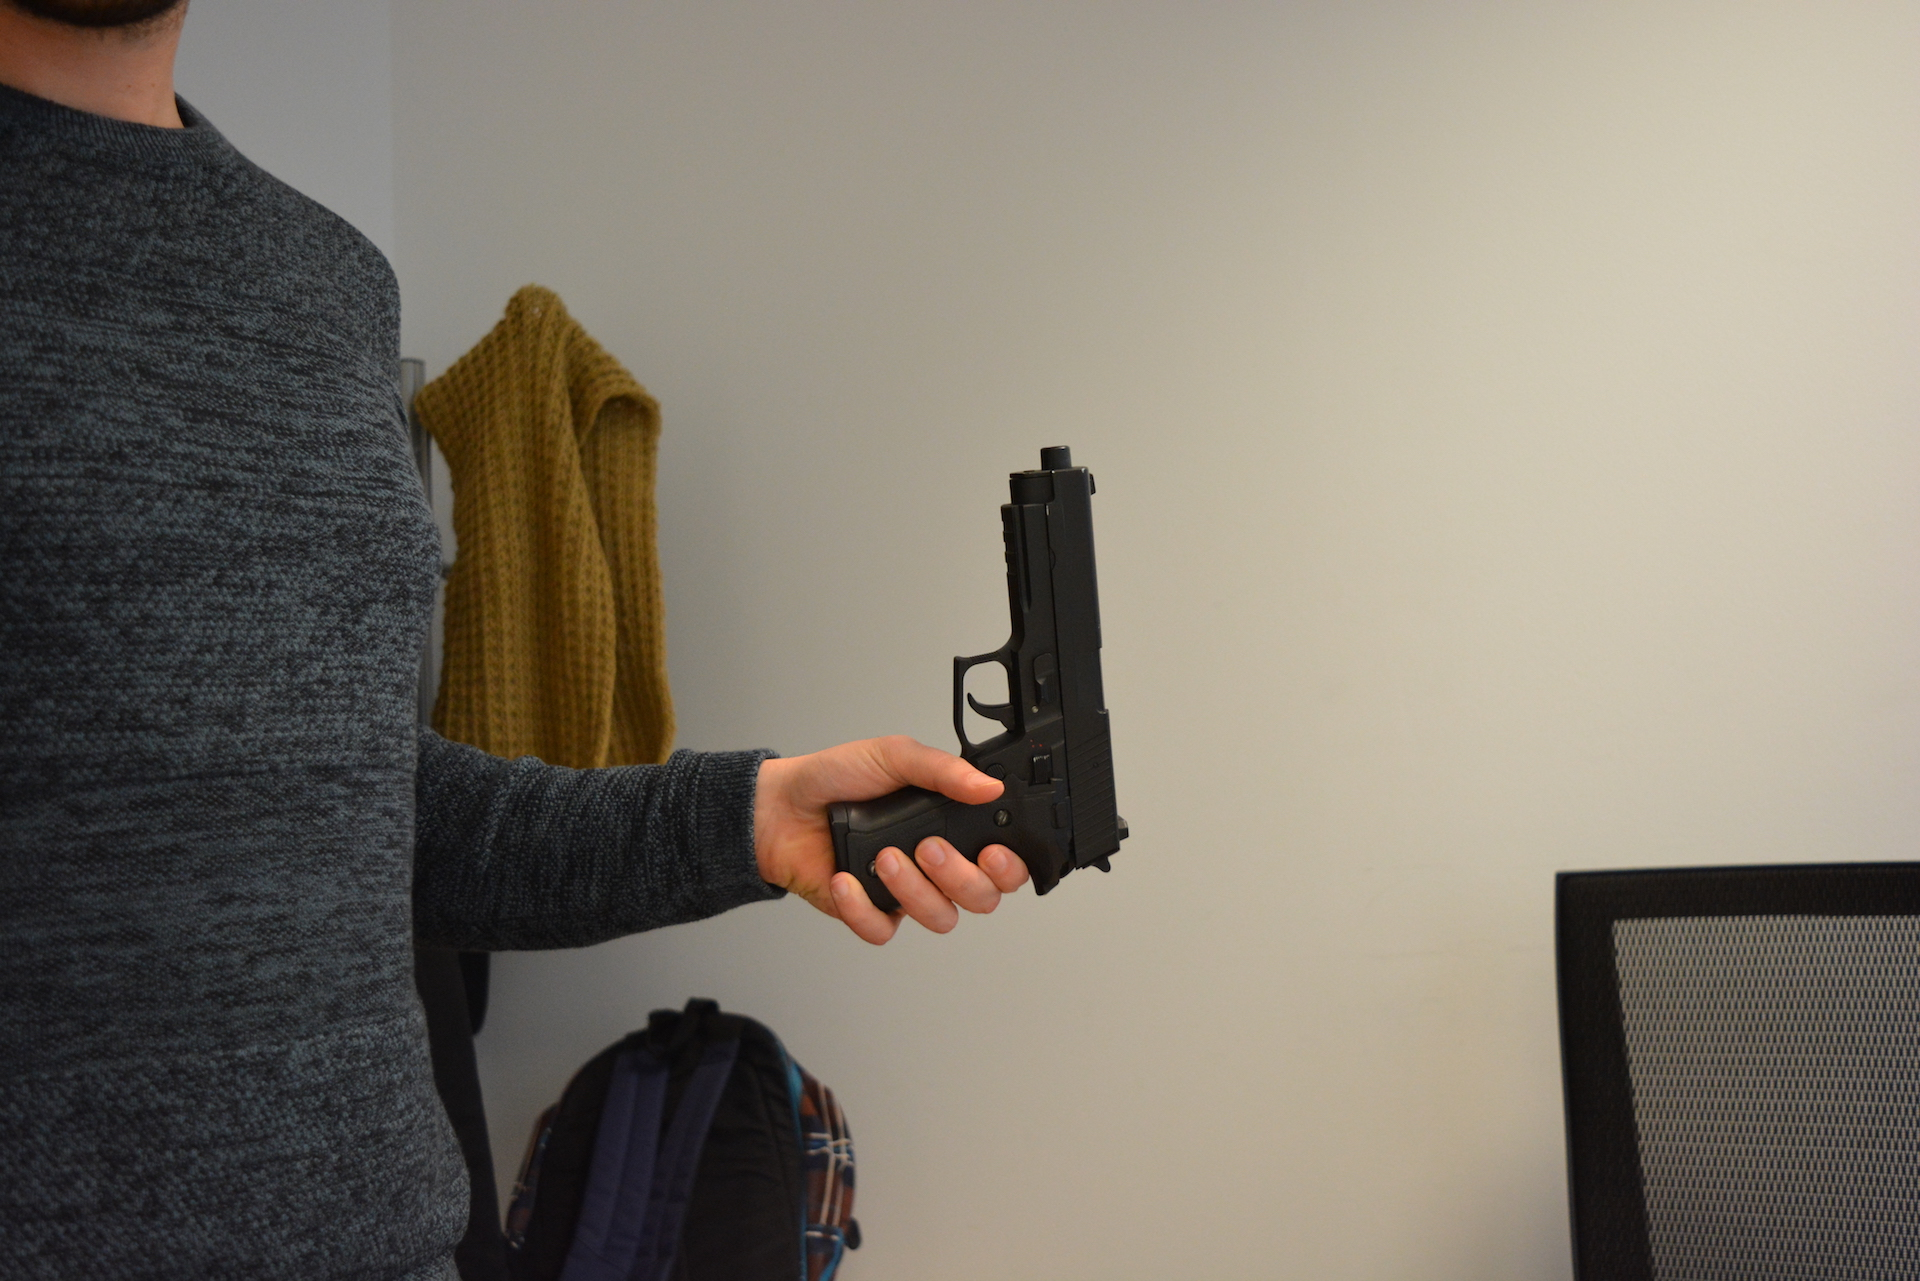pistol: (823, 443, 1132, 922)
